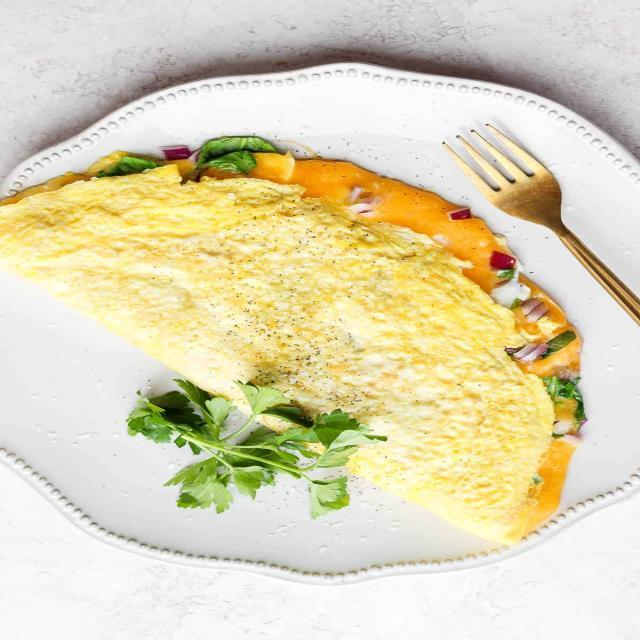telur_ayam_dadar: (1, 145, 586, 548)
